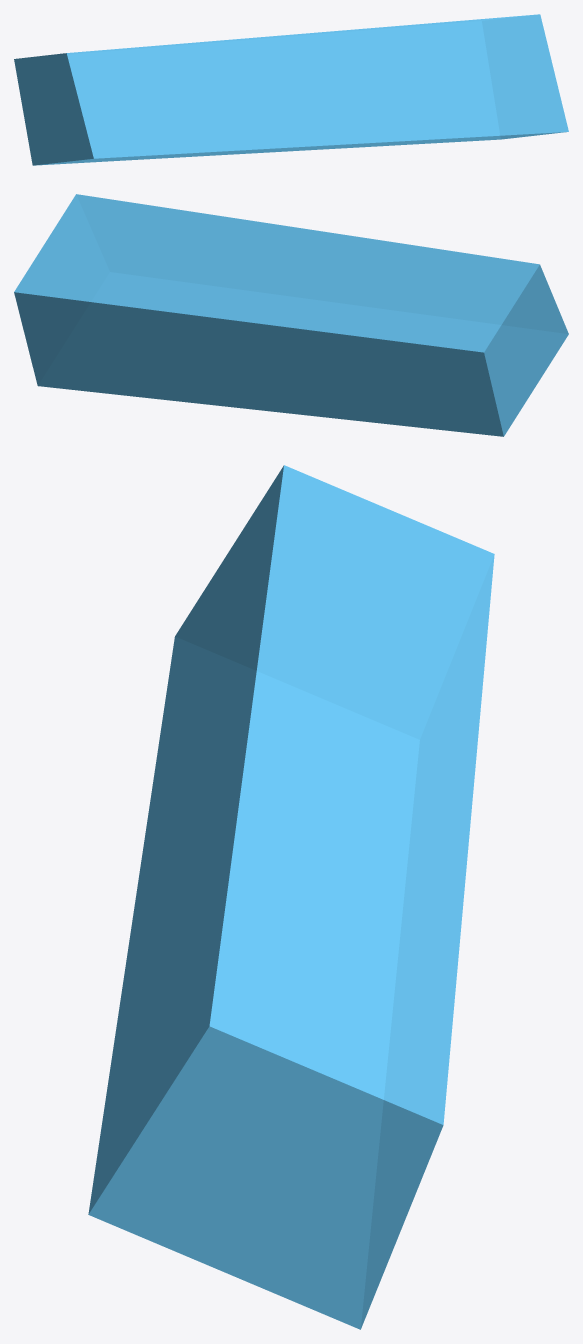
File: Event_421115418_HErechit_113.fbx
The picture shows the model from 3 angles, top to bottom: view 1: azimuth 30°, elevation 25°; view 2: azimuth 150°, elevation 25°; view 3: azimuth 270°, elevation 25°; orthographic projection. The views are drawn at different scales.
Visible parts, largest first — view 1: Model; view 2: Model; view 3: Model.
Part boxes in pixels (x1,y1,x2,y2): Model: (14,14,568,165); Model: (14,194,568,436); Model: (88,465,494,1329).
Bounding box in the file's own units: 1.24 × 0.5502 × 0.4796.
